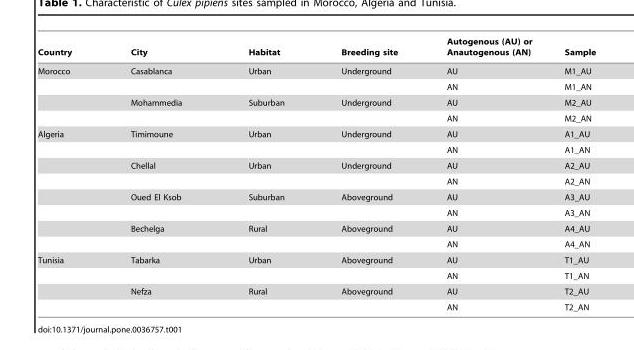table: (36, 36, 595, 311)
table column: (421, 36, 547, 311), (100, 36, 214, 311), (312, 36, 421, 311), (214, 36, 312, 311), (36, 36, 100, 311), (547, 36, 595, 311)
table column header: (36, 36, 595, 61)
table row: (36, 36, 595, 61), (36, 61, 595, 78), (36, 78, 595, 94), (36, 94, 595, 110), (36, 110, 595, 126), (36, 141, 595, 157), (36, 157, 595, 173), (36, 173, 595, 189), (36, 204, 595, 220), (36, 220, 595, 236), (36, 251, 595, 267), (36, 267, 595, 283), (36, 283, 595, 299), (36, 126, 595, 141), (36, 189, 595, 204), (36, 236, 595, 251), (36, 299, 595, 311)
table spanning cell: (36, 126, 100, 251), (36, 61, 100, 126), (36, 251, 100, 311)
